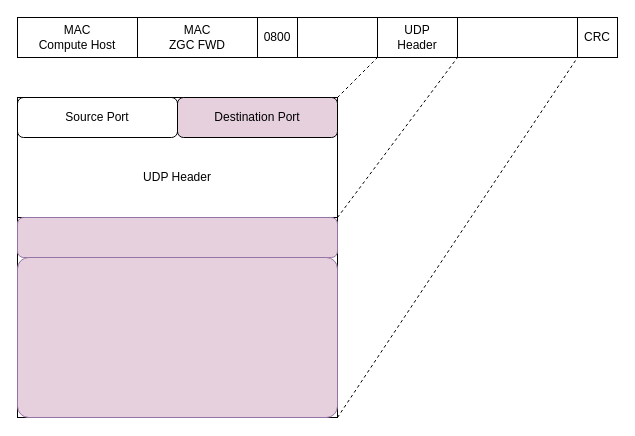
Image size: 635x436. Some labels were removed from this diagram. The centre of each missing label's shape, as x and y in pixels:
"Data" goes at point 517,37.
"IPv4 Header" goes at point 337,37.
"OP_Code" goes at point 177,237.
"OP_Data" goes at point 177,337.
